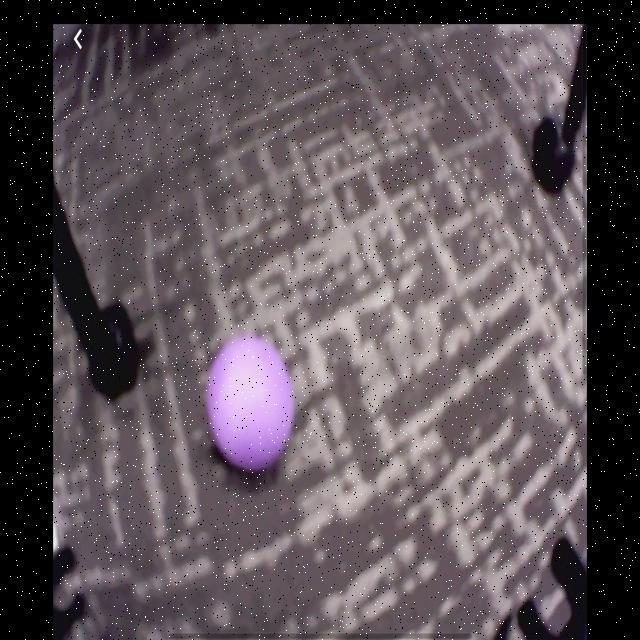ball: (206, 338, 294, 471)
